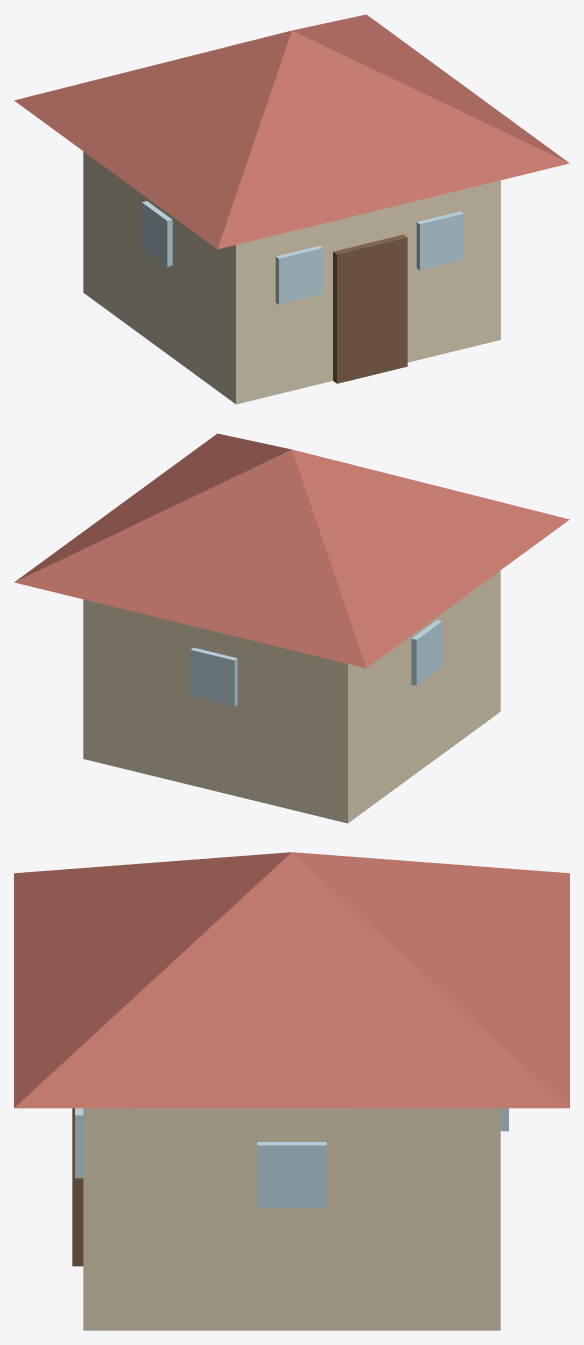
The model's file is house.glb.
3 renders of one model, top to bottom at view 1: azimuth 30°, elevation 25°; view 2: azimuth 150°, elevation 25°; view 3: azimuth 270°, elevation 25°, orthographic. The views are drawn at different scales.
Visible parts, largest first — view 1: House.001; view 2: House.001; view 3: House.001.
Part boxes in pixels (x1,y1,x2,y2): House.001: (14,14,569,404); House.001: (14,433,569,823); House.001: (14,852,569,1330).
Size of the model in its own units: 4 by 3.1 by 4.
